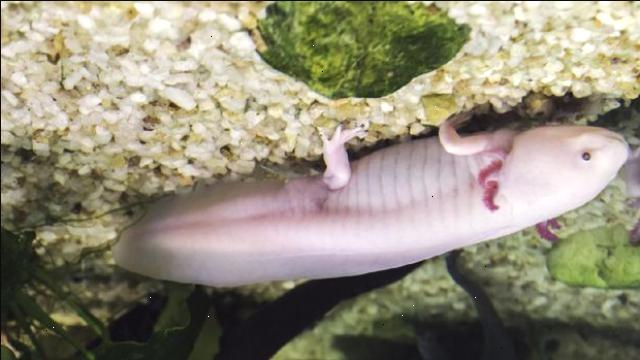Mulut: (551, 88, 631, 158)
Sirip Ekor: (88, 150, 250, 308)
